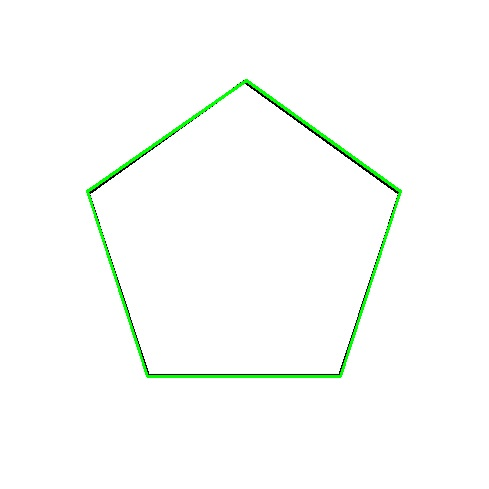line_segment: (86, 80, 401, 378)
